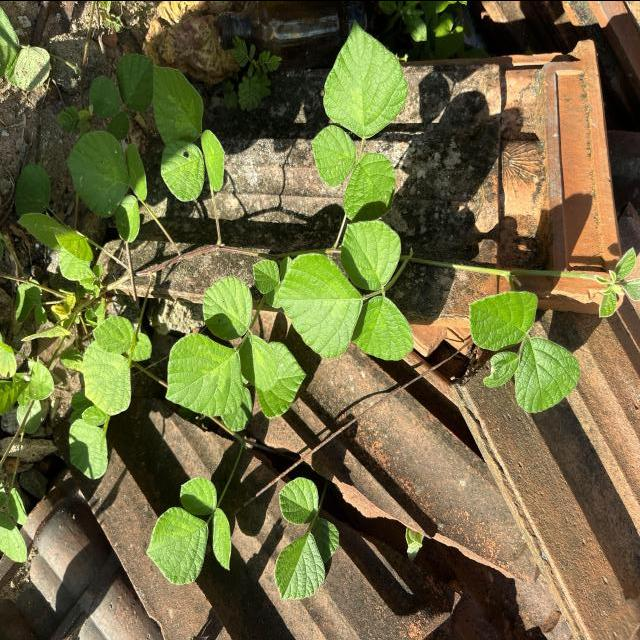Pseudarthria viscida: (273, 217, 415, 362), (310, 18, 410, 222), (163, 274, 280, 417), (152, 64, 226, 204), (145, 474, 233, 586), (273, 474, 341, 600)
